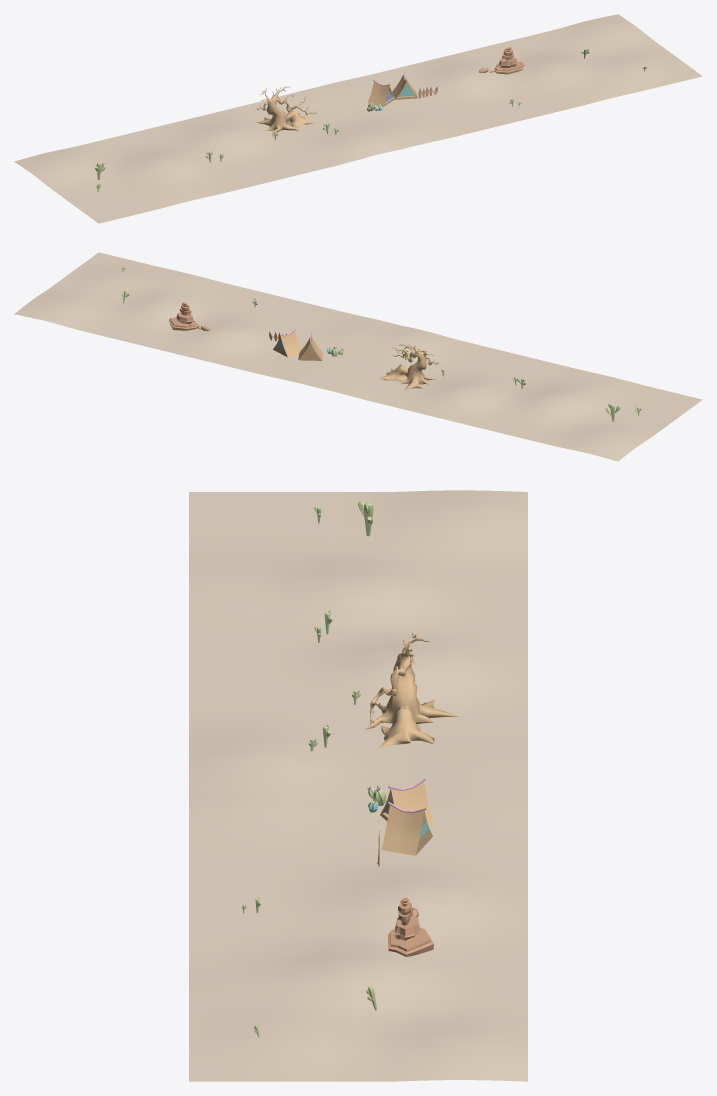
Rendered from road side_desert land.fbx.
3 views of the same model, one above another, from view 1: azimuth 30°, elevation 25°; view 2: azimuth 150°, elevation 25°; view 3: azimuth 270°, elevation 25° (orthographic). The views are drawn at different scales.
Parts seen in each view (by area): view 1: pPlane4, pCylinder1, side3, pCube8, pCube9; view 2: pPlane4, pCylinder1, side3, pCube9, pCube8; view 3: pPlane4, pCylinder1, pCube9, side3, pCube8.
Part boxes in pixels (x1,y1,x2,y2): pPlane4: (14,14,702,223); pCylinder1: (256,86,317,134); side3: (479,47,524,74); pCube8: (367,79,395,107); pCube9: (392,72,417,99); pPlane4: (14,252,702,461); pCylinder1: (379,344,438,391); side3: (169,302,210,331); pCube9: (273,329,300,357); pCube8: (298,333,323,360); pPlane4: (189,490,527,1081); pCylinder1: (365,633,458,747); pCube9: (381,801,432,855); side3: (388,897,433,956); pCube8: (380,778,434,827).
Bounding box in the file's own units: 1273 × 81.41 × 310.
